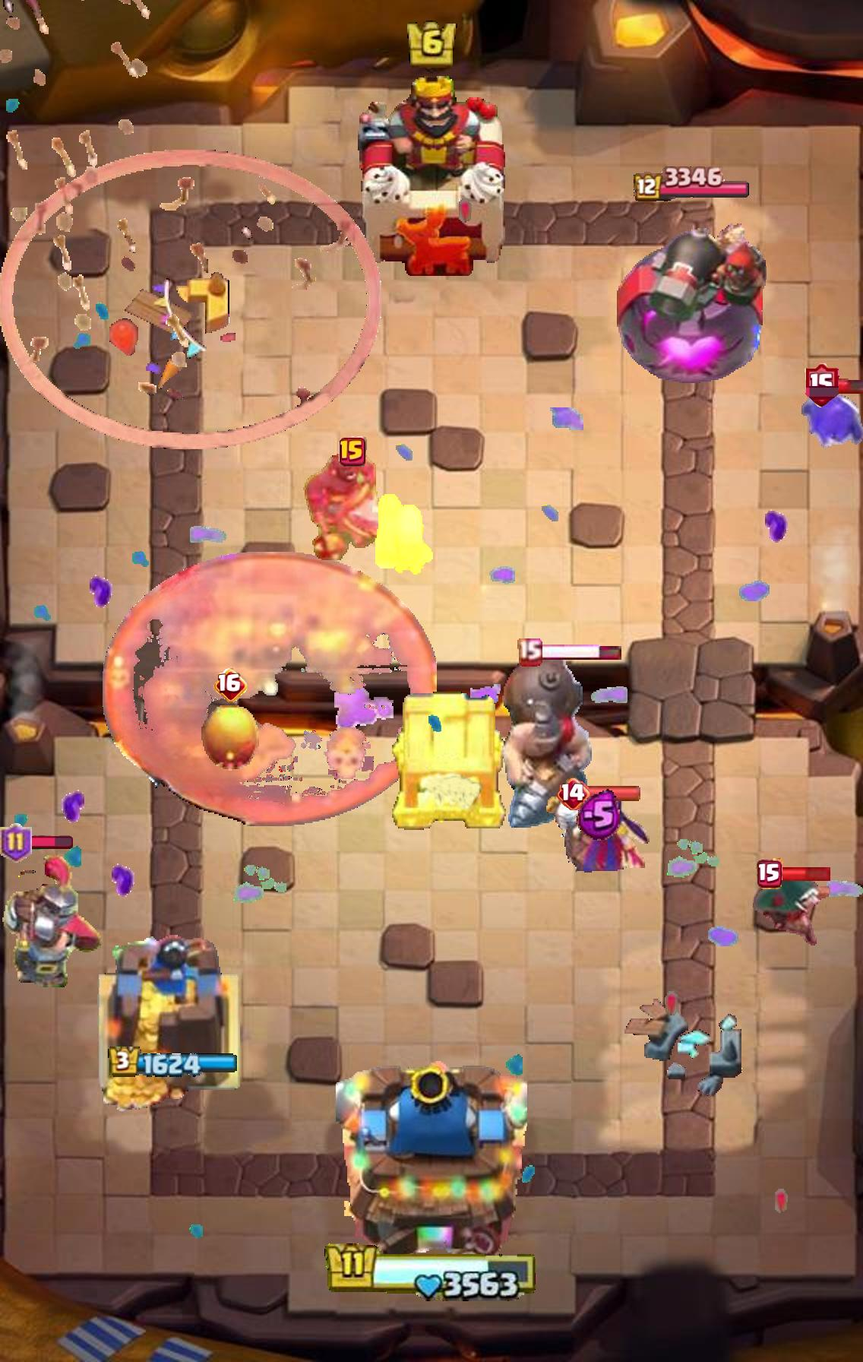elixir: (576, 789, 621, 841)
